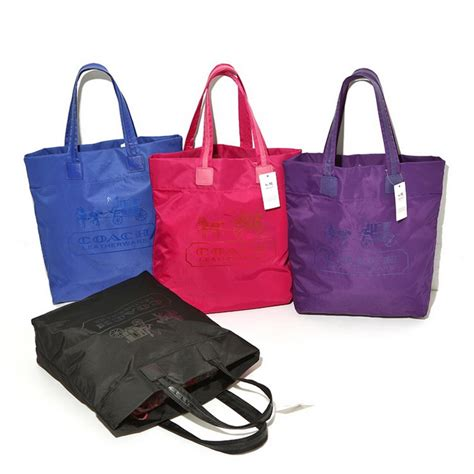nylon: (23, 61, 450, 453)
